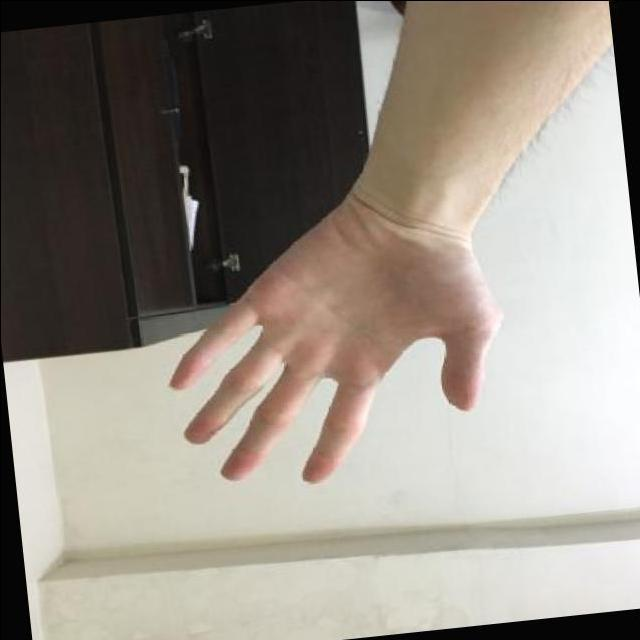hand: (139, 159, 528, 516)
